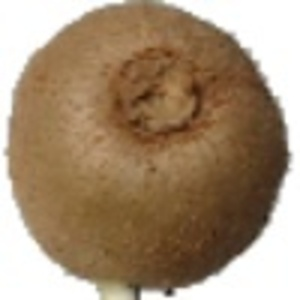kiwi: (4, 1, 292, 300)
